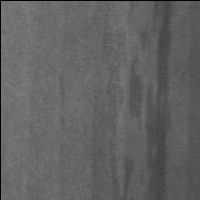inclusion: (127, 2, 173, 200), (53, 70, 69, 131)
